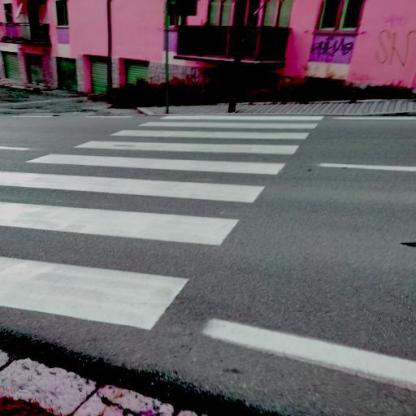crosswalk: (20, 138, 306, 180)
